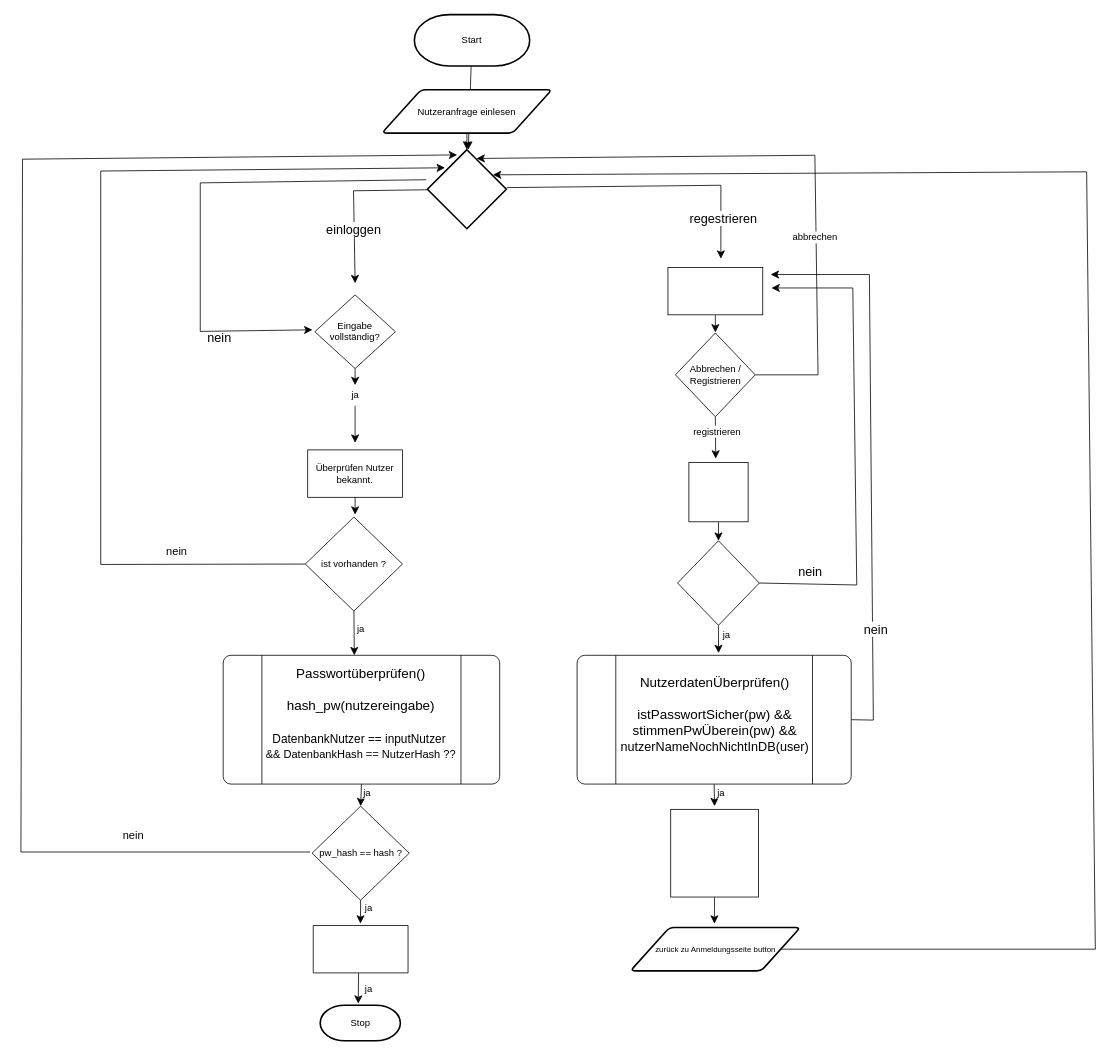
This 1117x1055 diagram has some shape labels left out. The shapes that lost their labels are listed below. From the top down, each one's centre as x and y in pixels, then its label:
(x=466, y=189): registrieren / einloggen
(x=715, y=291): Formular anzeigen
(x=718, y=492): überprüfen Eingaben vollständig
(x=718, y=582): Formular vollstänfig ausgefüllt ?
(x=714, y=853): Nutzer in DB anlegen und Regestrierungspage anzeigen
(x=360, y=949): anzeigen Nutzerbereich
